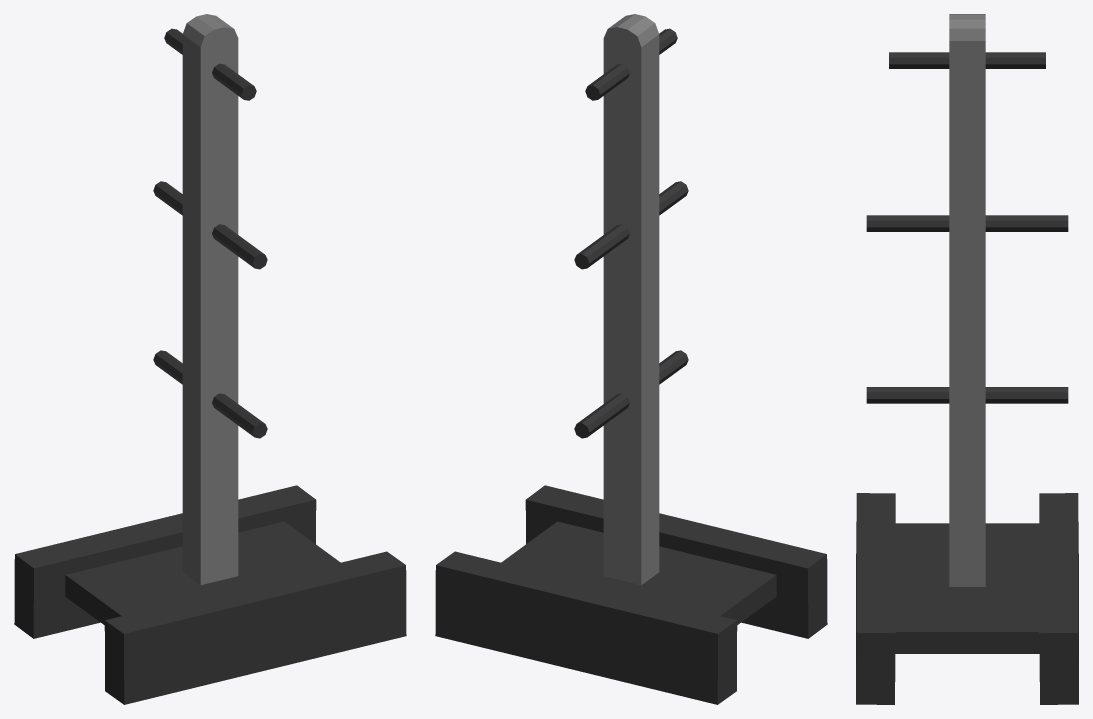
The model's file is weight-stand-2.glb.
3 renders of one model, left to right at view 1: azimuth 30°, elevation 25°; view 2: azimuth 150°, elevation 25°; view 3: azimuth 270°, elevation 25°, orthographic.
Visible parts, largest first — view 1: Weight_Stand_2; view 2: Weight_Stand_2; view 3: Weight_Stand_2.
Part boxes in pixels (x1,y1,x2,y2): Weight_Stand_2: (14,14,406,704); Weight_Stand_2: (435,14,827,704); Weight_Stand_2: (856,14,1078,704).
Size of the model in its own units: 58.68 by 121 by 39.55.
1 material, 1 textured.
